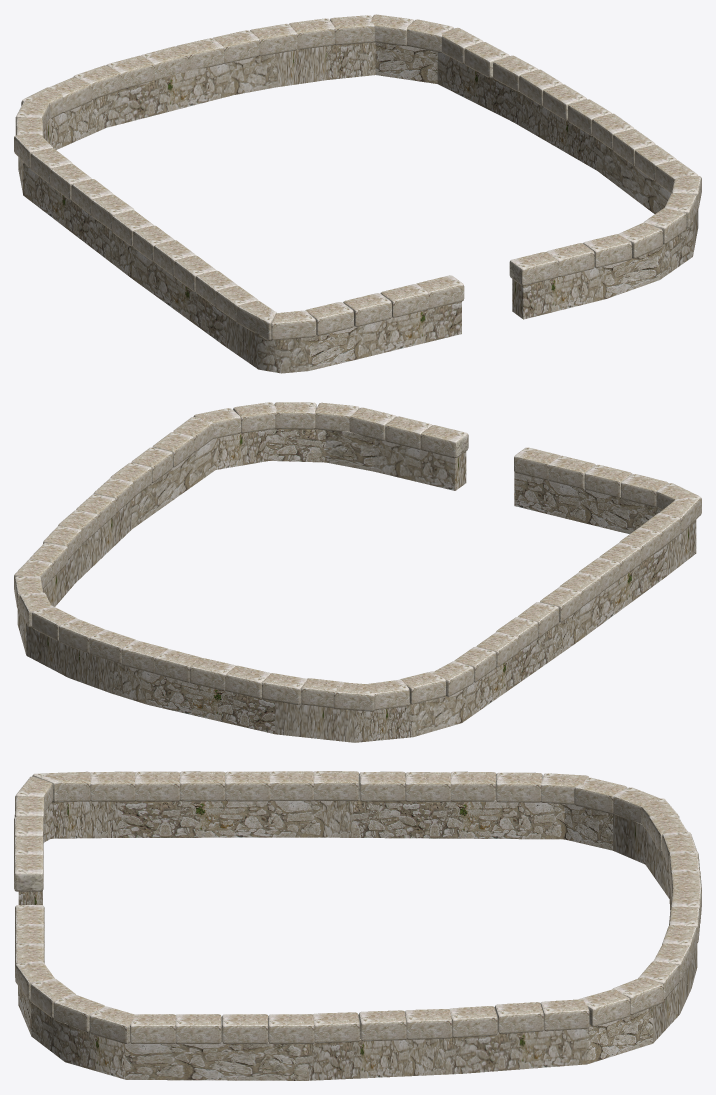
File: Barriere.fbx
3 renders of one model, top to bottom at view 1: azimuth 30°, elevation 25°; view 2: azimuth 150°, elevation 25°; view 3: azimuth 270°, elevation 25°, orthographic. The views are drawn at different scales.
Visible parts, largest first — view 1: Wall, Building1 (×2), Building3 (×2), Building2 (×2), Building4 (×2), Building23 (×2), Building22 (×2), Building5 (×2), Building24 (×2), Building21 (×2), Building16 (×2), Building13 (×2) (+13 smaller); view 2: Wall, Building1 (×2), Building3 (×2), Building2 (×2), Building22 (×2), Building23 (×2), Building24 (×2), Building4 (×2), Building20 (×2), Building21 (×2), Building6 (×2), Building5 (×2) (+13 smaller); view 3: Wall, Building13 (×2), Building16 (×2), Building9 (×2), Building10 (×2), Building14 (×2), Building12 (×2), Building15 (×2), Building11 (×2), Building8 (×2), Building7 (×2), Building18 (×2) (+13 smaller).
Boxes of the visible parts, x1,y1,x2,y2 form: Wall: (18, 42, 698, 373); Building1 (×2): (416, 252, 558, 309); Building3 (×2): (343, 234, 631, 326); Building2 (×2): (380, 243, 594, 317); Building4 (×2): (305, 222, 662, 335); Building23 (×2): (106, 30, 259, 89); Building22 (×2): (73, 23, 297, 99); Building5 (×2): (271, 208, 686, 340); Building24 (×2): (141, 38, 223, 79); Building21 (×2): (49, 18, 334, 112); Building16 (×2): (30, 42, 509, 183); Building13 (×2): (91, 84, 586, 230); Wall: (17, 428, 696, 742); Building1 (×2): (420, 425, 560, 480); Building3 (×2): (349, 407, 632, 497); Building2 (×2): (385, 416, 595, 488); Building22 (×2): (89, 629, 307, 704); Building23 (×2): (121, 640, 270, 698); Building24 (×2): (155, 649, 236, 690); Building4 (×2): (315, 402, 668, 507); Building20 (×2): (32, 605, 375, 711); Building21 (×2): (59, 618, 345, 707); Building6 (×2): (233, 402, 701, 533); Building5 (×2): (274, 402, 699, 509); Wall: (18, 798, 697, 1080); Building13 (×2): (358, 771, 406, 1041); Building16 (×2): (494, 772, 543, 1033); Building9 (×2): (175, 771, 225, 1043); Building10 (×2): (221, 771, 270, 1043); Building14 (×2): (405, 772, 452, 1039); Building12 (×2): (313, 771, 360, 1043); Building15 (×2): (449, 771, 497, 1037); Building11 (×2): (268, 771, 314, 1043); Building8 (×2): (130, 771, 179, 1043); Building7 (×2): (89, 771, 138, 1043); Building18 (×2): (574, 777, 630, 1026).
Bounding box in the file's own units: 36.14 × 3.75 × 41.06.
